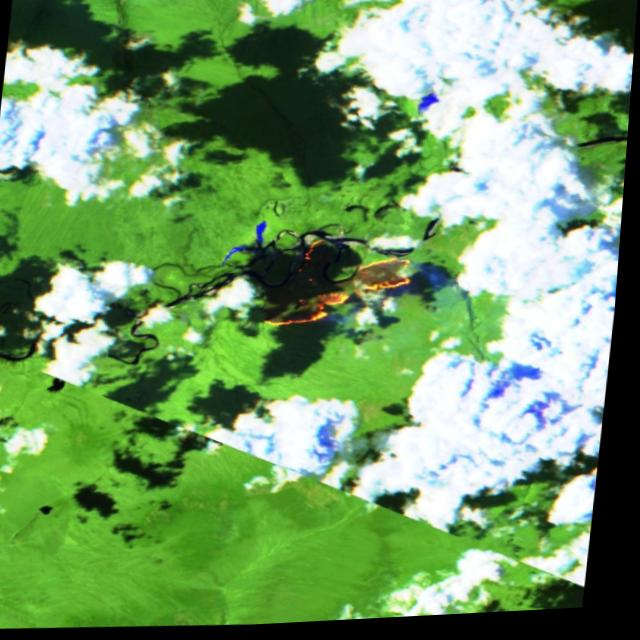fire: (263, 237, 419, 336)
